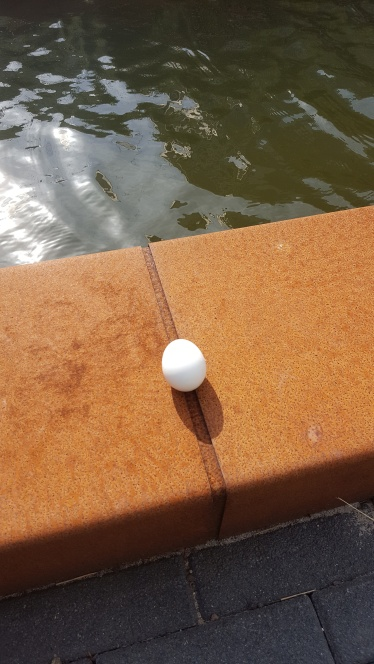egg: (162, 337, 206, 396)
